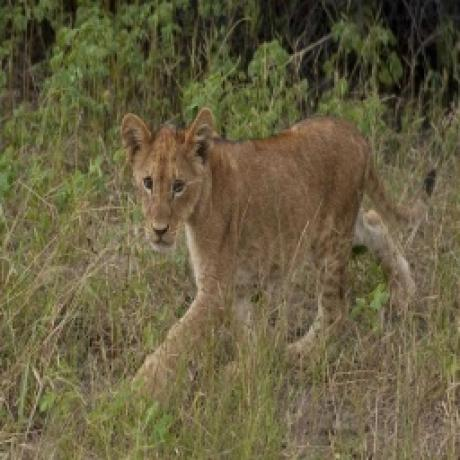Lion: (121, 108, 437, 369)
